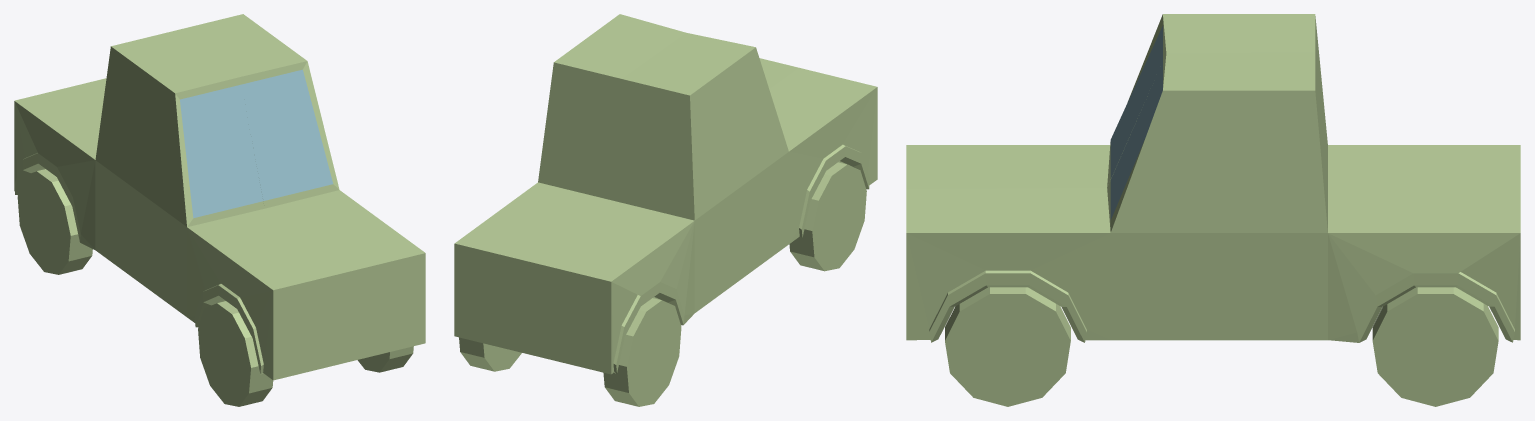
The model's file is Car.fbx.
The picture shows the model from 3 angles, left to right: view 1: azimuth 30°, elevation 25°; view 2: azimuth 150°, elevation 25°; view 3: azimuth 270°, elevation 25°; orthographic projection. The views are drawn at different scales.
Parts seen in each view (by area): view 1: Cube; view 2: Cube; view 3: Cube.
Part boxes in pixels (x1,y1,x2,y2): Cube: (14,14,425,406); Cube: (454,14,877,406); Cube: (906,14,1520,406).
Size of the model in its own units: 244 by 368 by 667.
